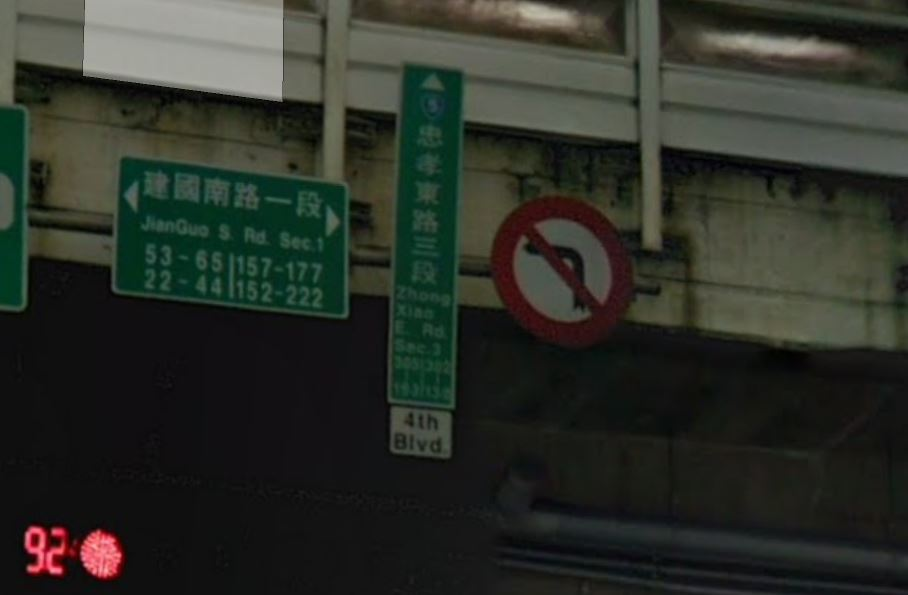No_left_turn: (489, 197, 636, 347)
